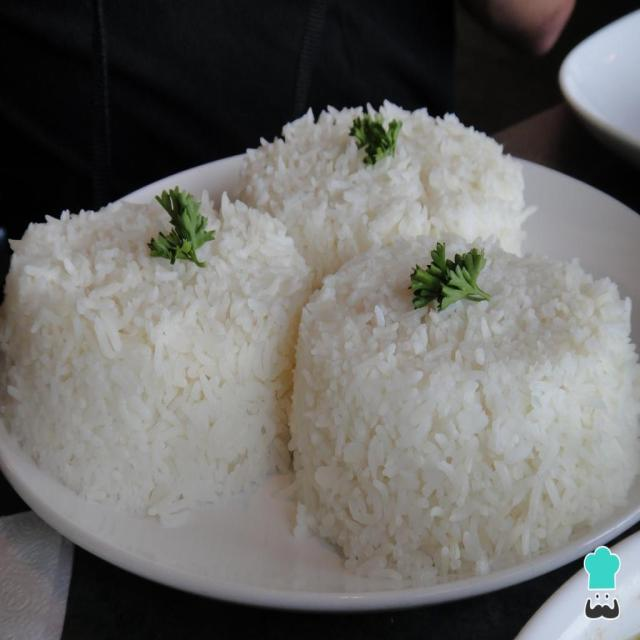arroz: (286, 213, 636, 595), (8, 191, 298, 524)
